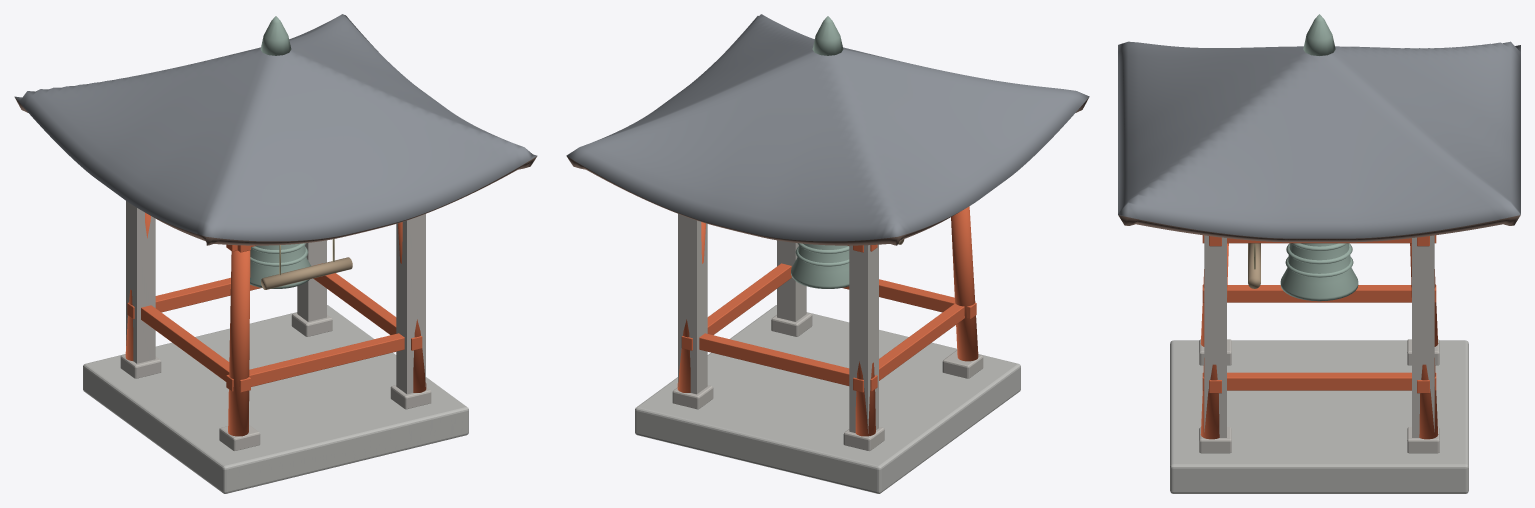
The model's file is bell_pavilion.glb.
3 renders of one model, left to right at view 1: azimuth 30°, elevation 25°; view 2: azimuth 150°, elevation 25°; view 3: azimuth 270°, elevation 25°, orthographic. The views are drawn at different scales.
Parts seen in each view (by area): view 1: bell_pavilion, post-colonly.002, post-colonly.001, post-colonly.003; view 2: bell_pavilion, post-colonly.001, post-colonly.003, post-colonly.002; view 3: bell_pavilion, post-colonly.002, post-colonly.003.
Boxes of the visible parts, x1,y1,x2,y2 form: bell_pavilion: (14, 14, 537, 493); post-colonly.002: (396, 214, 425, 394); post-colonly.001: (126, 201, 155, 363); post-colonly.003: (297, 240, 326, 321); bell_pavilion: (566, 14, 1089, 493); post-colonly.001: (849, 244, 878, 433); post-colonly.003: (678, 214, 707, 394); post-colonly.002: (777, 240, 806, 321); bell_pavilion: (1118, 14, 1520, 493); post-colonly.002: (1204, 235, 1226, 437); post-colonly.003: (1412, 235, 1434, 437).
Size of what is drawn, in the model's own units: 6.2 by 7.1 by 6.2.
